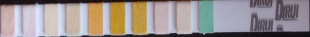color 1: (1, 6, 13, 35)
color 10: (200, 2, 212, 31)
color 2: (23, 6, 35, 35)
color 3: (45, 5, 57, 34)
color 4: (67, 5, 79, 34)
color 5: (89, 4, 102, 34)
color 6: (112, 3, 124, 34)
color 7: (133, 3, 146, 33)
color 8: (155, 3, 168, 33)
color 9: (177, 3, 190, 32)
